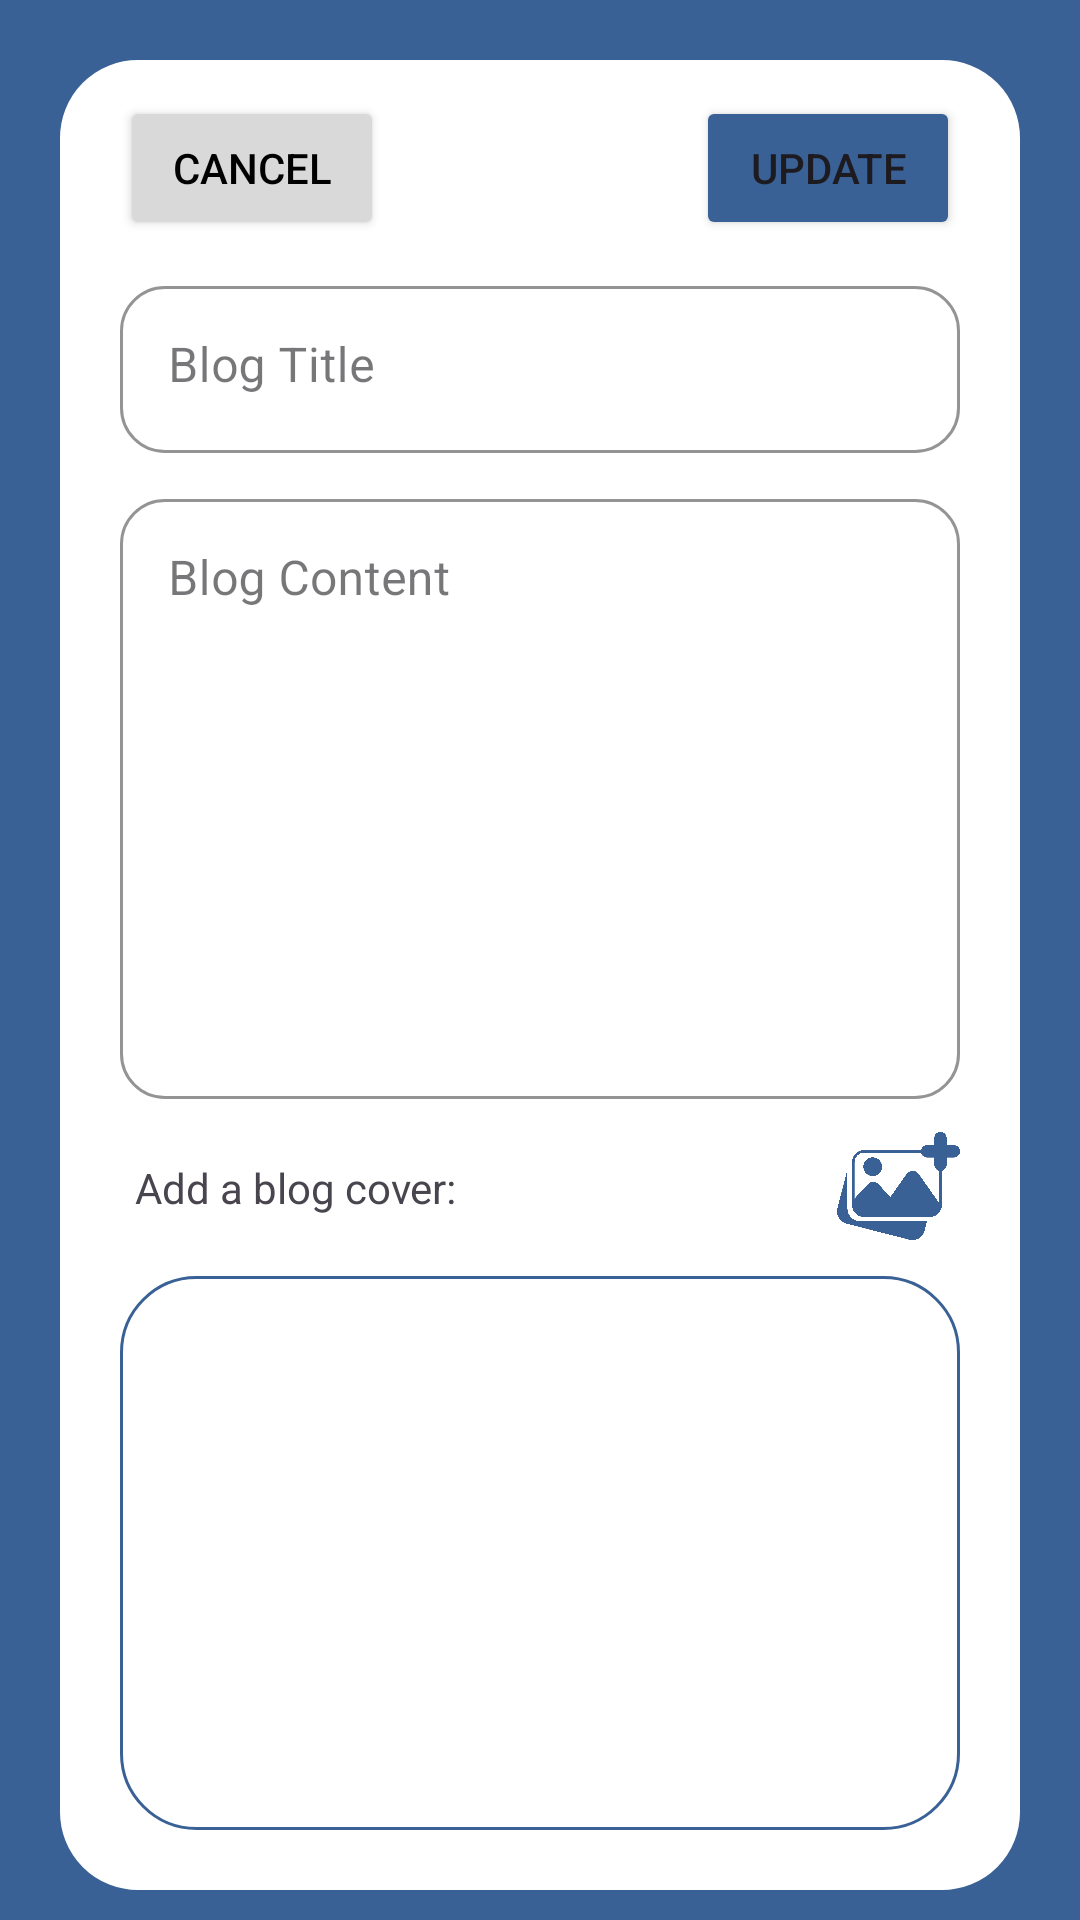

Icon bounding boxes for this 1080w x 1920h phone screenshot, format (x1, y1, x2, y2):
add: (837, 1132, 960, 1240)
